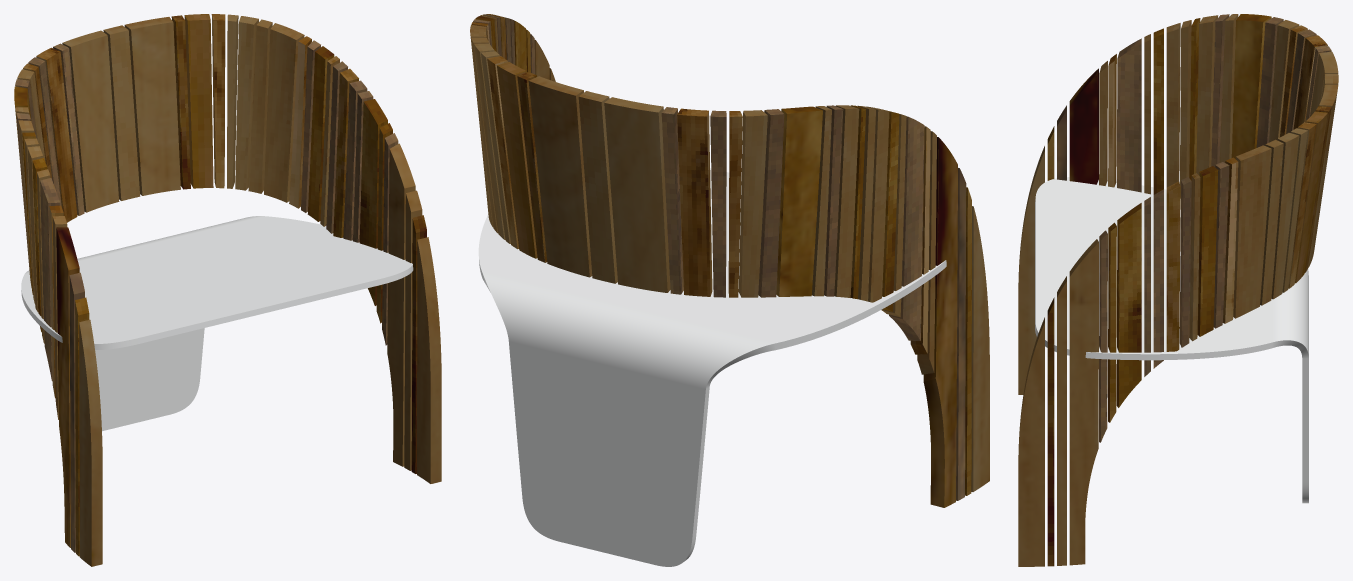
Rendered from AiresChair.glb.
3 views of the same model, side by side, from view 1: azimuth 30°, elevation 25°; view 2: azimuth 150°, elevation 25°; view 3: azimuth 270°, elevation 25° (orthographic). The views are drawn at different scales.
Visible parts, largest first — view 1: Chair (×43); view 2: Chair (×33); view 3: Chair (×45).
Boxes of the visible parts, x1=… form: Chair (×43): x1=17, y1=14, x2=441, y2=566; Chair (×33): x1=470, y1=24, x2=989, y2=566; Chair (×45): x1=1018, y1=14, x2=1338, y2=566.
Size of the model in its own units: 0.3149 by 0.33 by 0.2398.
48 materials, 47 textured.
